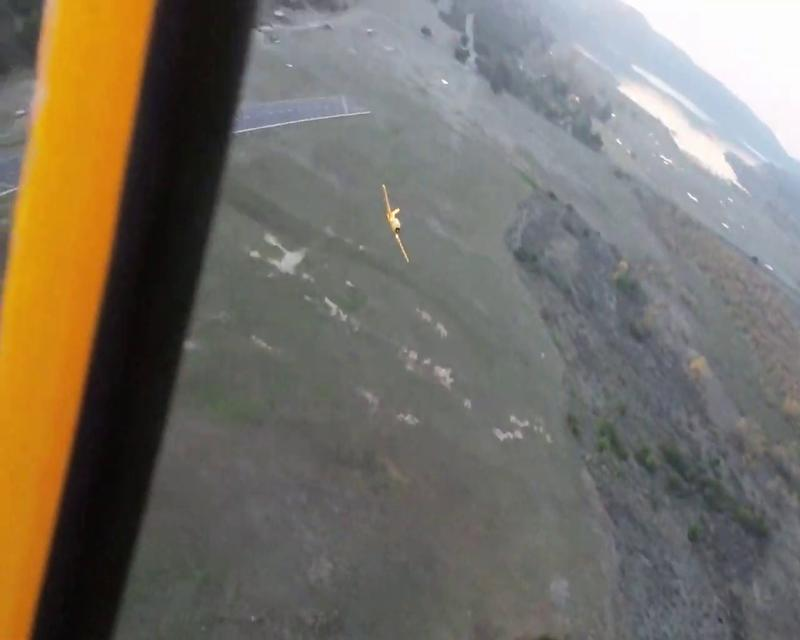UAV: (383, 185, 409, 262)
